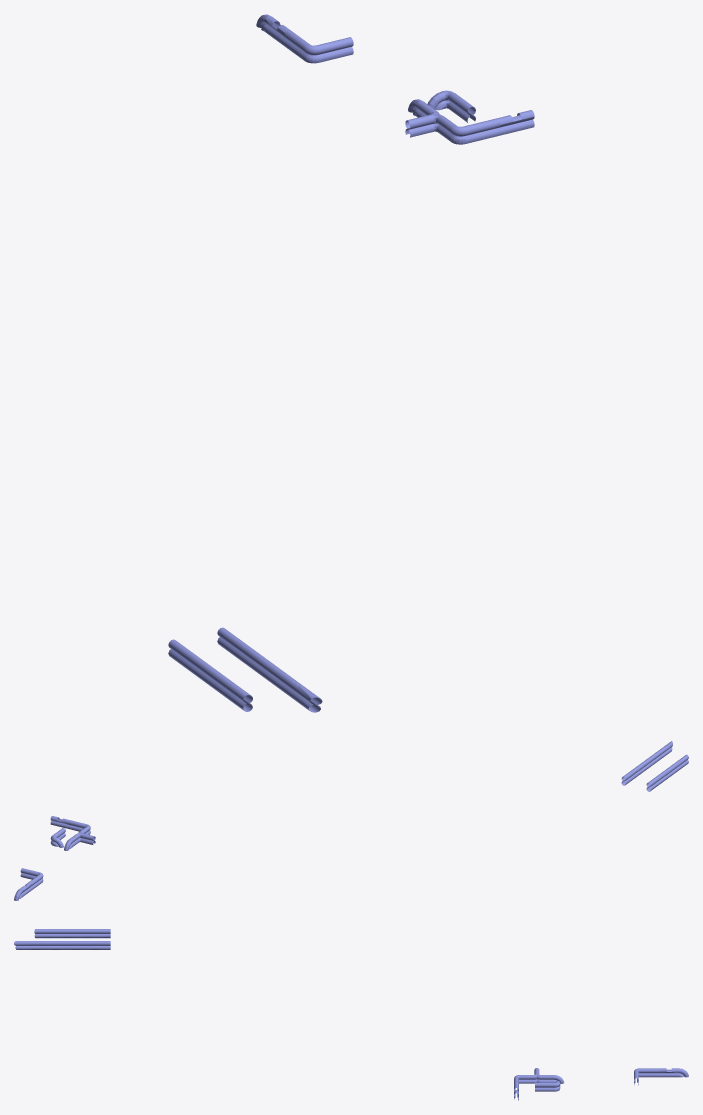
File: cluster_9.fbx
3 views of the same model, one above another, from view 1: azimuth 30°, elevation 25°; view 2: azimuth 150°, elevation 25°; view 3: azimuth 270°, elevation 25° (orthographic). The views are drawn at different scales.
Visible parts, largest first — view 1: cluster_9; view 2: cluster_9; view 3: cluster_9.
Boxes of the visible parts, x1,y1,x2,y2 form: cluster_9: (168, 14, 534, 712); cluster_9: (14, 741, 688, 900); cluster_9: (14, 929, 688, 1100).
Size of the model in its own units: 898954 by 69879 by 1365646.
